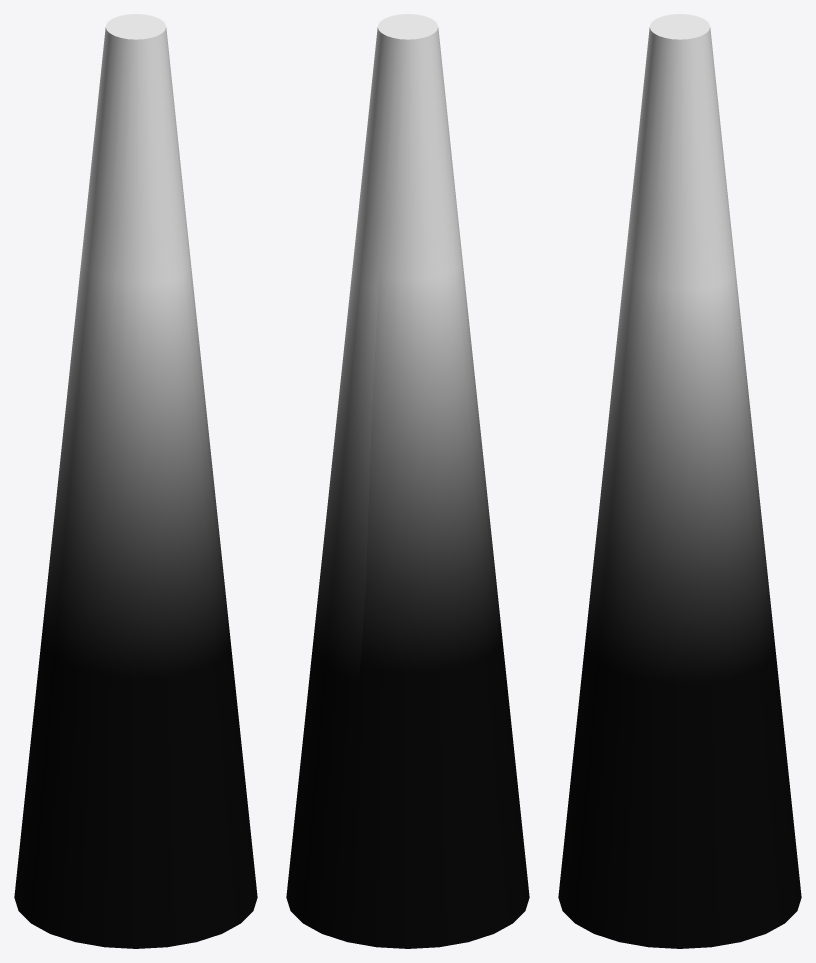
Rendered from VolumeLight.FBX.
3 views of the same model, side by side, from view 1: azimuth 30°, elevation 25°; view 2: azimuth 150°, elevation 25°; view 3: azimuth 270°, elevation 25° (orthographic).
Parts seen in each view (by area): view 1: Cone001; view 2: Cone001; view 3: Cone001.
Boxes of the visible parts, left/top/right/bottom form: Cone001: left=14, top=14, right=257, bottom=948; Cone001: left=286, top=14, right=529, bottom=948; Cone001: left=558, top=14, right=801, bottom=948.
Bounding box in the file's own units: 23.28 × 23.28 × 91.92.
Materials: 1 (1 with a texture image).
